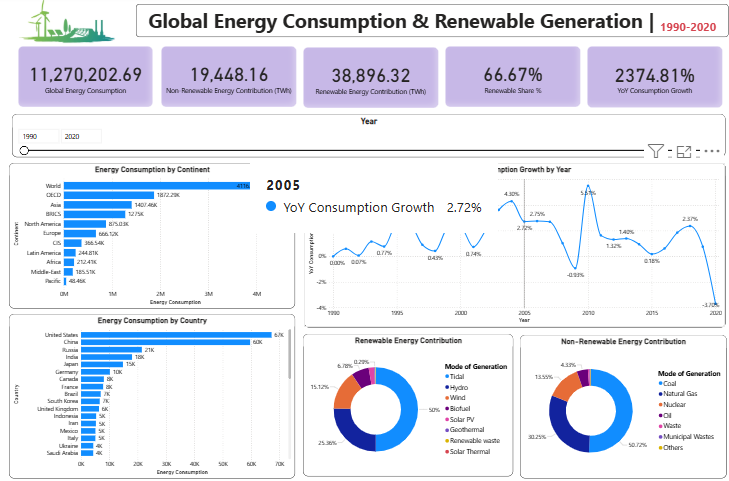

The dashboard page shown, as its layout file describes it:
{"tool":"powerbi","page":{"name":"Page 1","canvas":[2100,1400],"ordinal":0},"visuals":[{"type":"textbox","box":[394,22,1686,94],"z":0},{"type":"donutChart","title":"Non-Renewable Energy Contribution ","fields":{"Category":["nonRenewablesTotalPowerGeneration.Mode of Generation"],"Y":["Sum(nonRenewablesTotalPowerGeneration.Contribution (TWh))"]},"box":[1486.7,965.9,587.5,407.5],"z":1000},{"type":"donutChart","title":"Renewable Energy Contribution","fields":{"Category":["renewablesTotalPowerGeneration.Mode of Generation"],"Y":["Sum(renewablesTotalPowerGeneration.Contribution (TWh))"]},"box":[869.2,960.4,598.3,405],"z":2000},{"type":"card","fields":{"Values":["Sum(nonRenewablesTotalPowerGeneration.Contribution (TWh))"]},"box":[465,143.5,386,174],"z":3000},{"type":"card","fields":{"Values":["Sum(renewablesTotalPowerGeneration.Contribution (TWh))"]},"box":[869,145.5,386,174],"z":4000},{"type":"card","fields":{"Values":["Sum(Continent_Consumption_TWH.Energy Consumption)"]},"box":[57,143.5,384,174],"z":5000},{"type":"slicer","title":"Year","fields":{"Values":["Continent_Consumption_TWH.Year"]},"box":[40,335,2030,122.5],"z":6000},{"type":"clusteredBarChart","title":"Energy Consumption by Continent","fields":{"Category":["Continent_Consumption_TWH.Continent"],"Y":["Sum(Continent_Consumption_TWH.Energy Consumption)"]},"box":[32,476,814,414],"z":7000},{"type":"clusteredBarChart","title":"Energy Consumption by Country","fields":{"Category":["Country_Consumption_TWH.Country"],"Y":["Sum(Country_Consumption_TWH.Energy Consumption)"]},"box":[30,904,814,468],"z":8000},{"type":"card","fields":{"Values":["renewablesTotalPowerGeneration.Renewable Share %"]},"box":[1271,143.5,386,174],"z":9000},{"type":"card","fields":{"Values":["Continent_Consumption_TWH.YoY Consumption Growth"]},"box":[1675,141.5,386,176],"z":10000},{"type":"lineChart","fields":{"Category":["Continent_Consumption_TWH.Year"],"Y":["Continent_Consumption_TWH.YoY Consumption Growth"]},"box":[870,475,1200,467.5],"z":11000},{"type":"image","box":[0,0,395,142.5],"z":11001}]}

Visuals, with their boxes in screenshot pixels (x1, y1, x2, y2), scaled from the page's 2100x1400 canvas onto the 729x481 screenshot:
textbox: (137,8,722,40)
"Non-Renewable Energy Contribution " donutChart: (516,332,720,472)
"Renewable Energy Contribution" donutChart: (302,330,509,469)
card - Sum(nonRenewablesTotalPowerGeneration.Contribution (TWh)): (161,49,295,109)
card - Sum(renewablesTotalPowerGeneration.Contribution (TWh)): (302,50,436,110)
card - Sum(Continent_Consumption_TWH.Energy Consumption): (20,49,153,109)
"Year" slicer: (14,115,719,157)
"Energy Consumption by Continent" clusteredBarChart: (11,164,294,306)
"Energy Consumption by Country" clusteredBarChart: (10,311,293,471)
card - renewablesTotalPowerGeneration.Renewable Share %: (441,49,575,109)
card - Continent_Consumption_TWH.YoY Consumption Growth: (581,49,715,109)
lineChart - Continent_Consumption_TWH.Year x Continent_Consumption_TWH.YoY Consumption Growth: (302,163,719,324)
image: (0,0,137,49)
